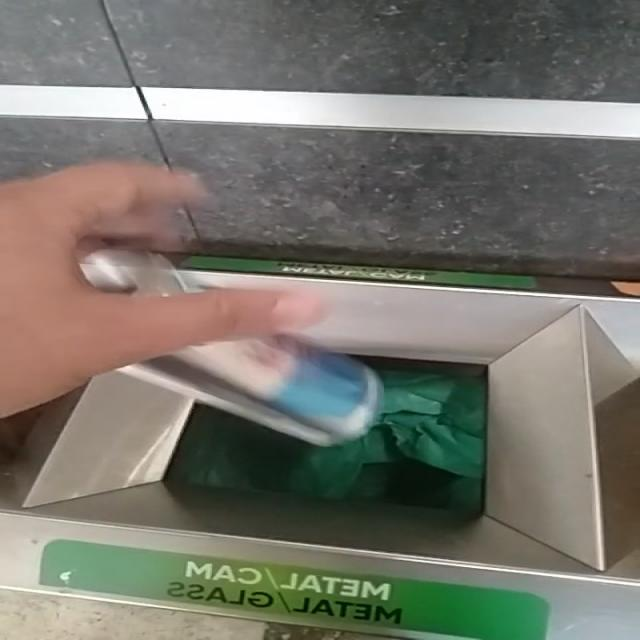bin: (0, 260, 639, 640), (1, 271, 639, 640)
metal: (119, 335, 381, 447), (79, 250, 189, 297)
